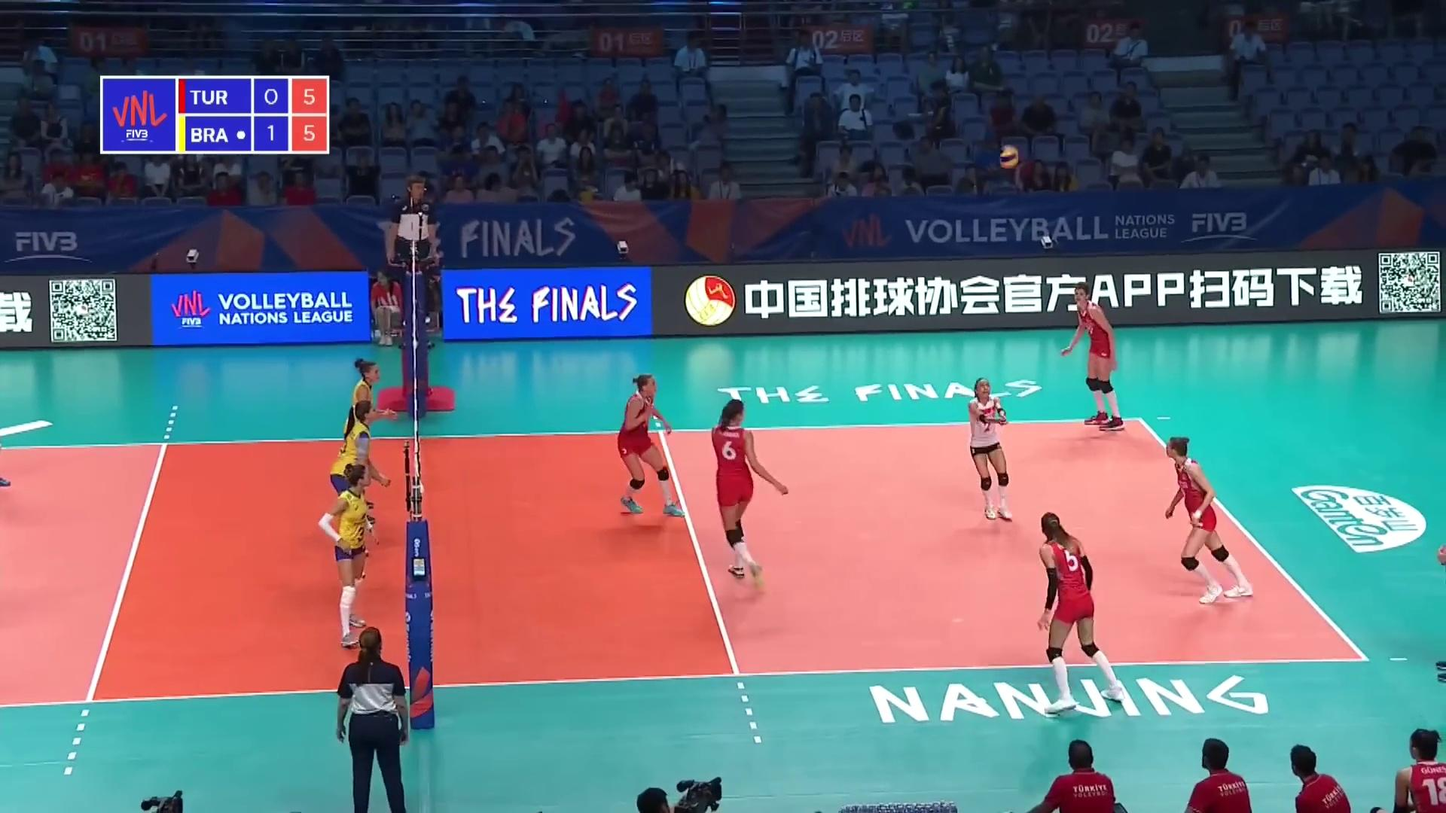player: (1037, 513, 1128, 712), (710, 397, 791, 585), (1164, 438, 1254, 607), (335, 359, 393, 544), (614, 375, 686, 519), (321, 468, 377, 649), (1060, 286, 1128, 428), (331, 401, 382, 584), (963, 377, 1010, 529)
refree: (332, 626, 408, 813), (390, 179, 438, 328)
